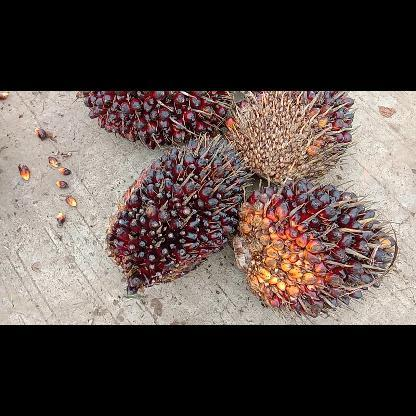TBS mentah: (232, 178, 404, 320), (105, 133, 253, 294), (225, 91, 359, 185), (76, 91, 231, 149)
